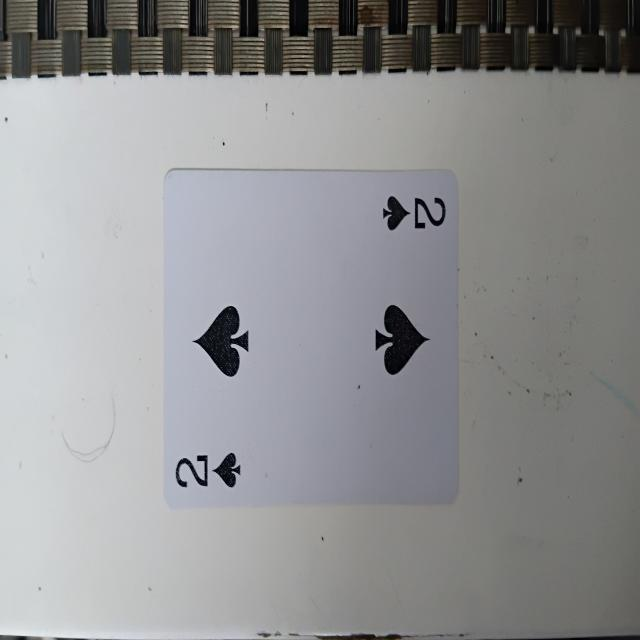2S: (158, 157, 460, 503)
